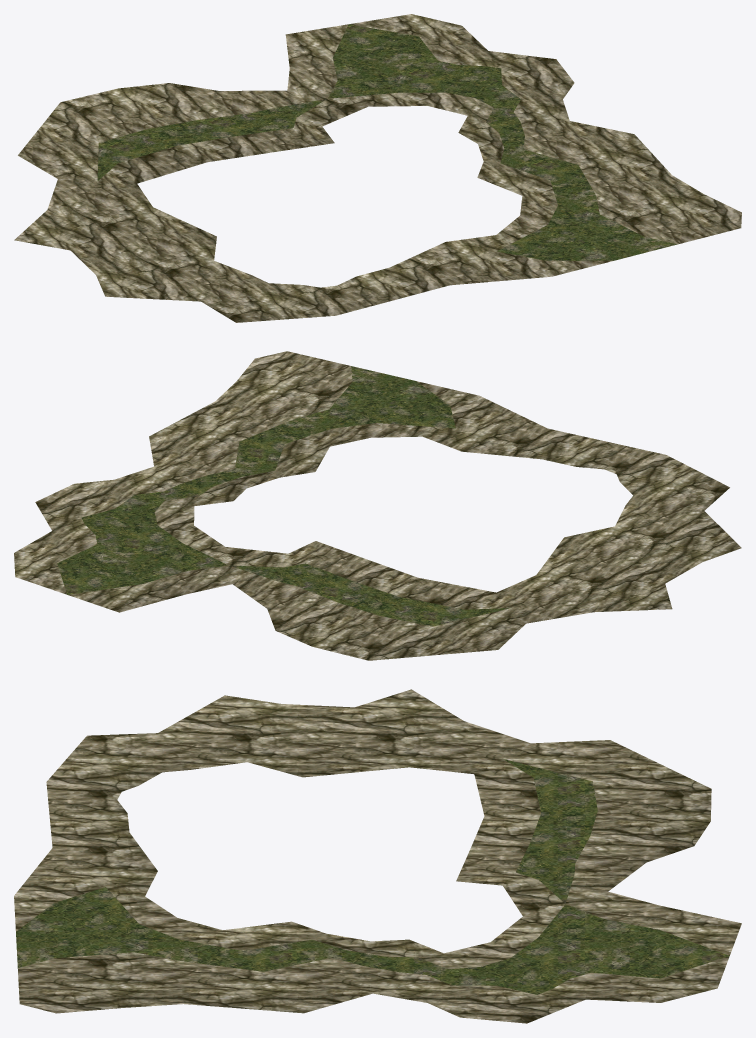
File: CB_NEWPLAYSURFACE_CB_PLAYSURFACE13.fbx
The picture shows the model from 3 angles, top to bottom: view 1: azimuth 30°, elevation 25°; view 2: azimuth 150°, elevation 25°; view 3: azimuth 270°, elevation 25°; orthographic projection. The views are drawn at different scales.
Visible parts, largest first — view 1: CB_NEWPLAYSURFACE_CB_PLAYSURFACE13; view 2: CB_NEWPLAYSURFACE_CB_PLAYSURFACE13; view 3: CB_NEWPLAYSURFACE_CB_PLAYSURFACE13.
Boxes of the visible parts, x1=… form: CB_NEWPLAYSURFACE_CB_PLAYSURFACE13: x1=14, y1=14, x2=741, y2=322; CB_NEWPLAYSURFACE_CB_PLAYSURFACE13: x1=14, y1=351, x2=741, y2=660; CB_NEWPLAYSURFACE_CB_PLAYSURFACE13: x1=14, y1=689, x2=741, y2=1023.
Size of the model in its own units: 454843 by 602 by 418687.
Materials: 2 (2 with a texture image).
